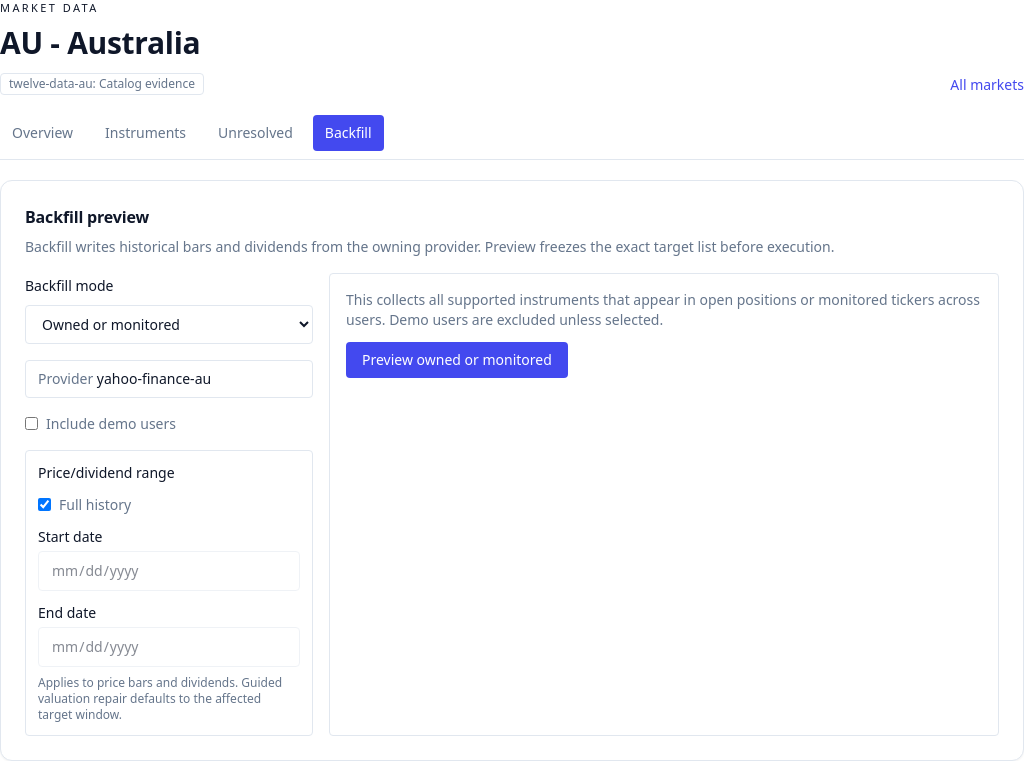
Test: AdminMarketDataWorkspaceClient › shows an inline error when backfill preview fails
Click the button "Preview owned or monitored" at (457, 360), box [346,342,568,378]
(page scrolled)
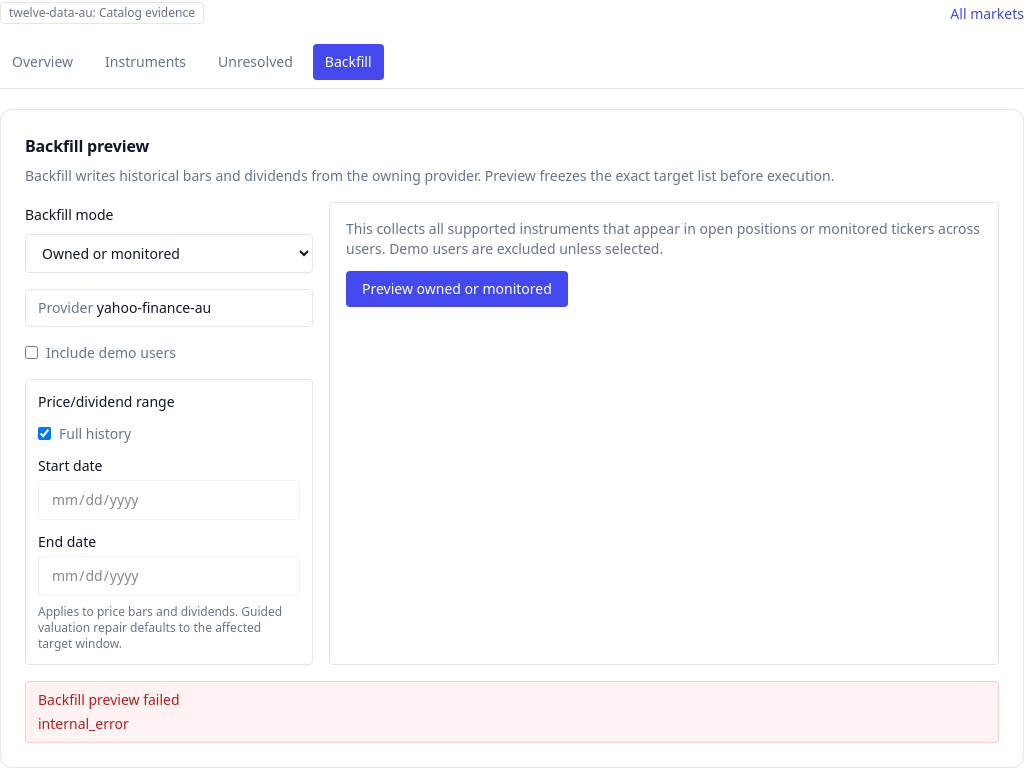
Now the message with test id "market-data-backfill-preview-error" shows "internal_error", box [38,714,129,732]
